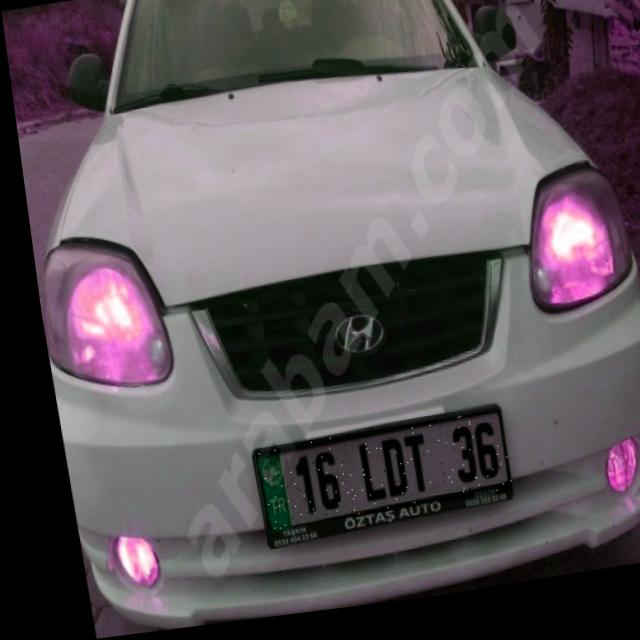license_plate: (240, 421, 498, 537)
